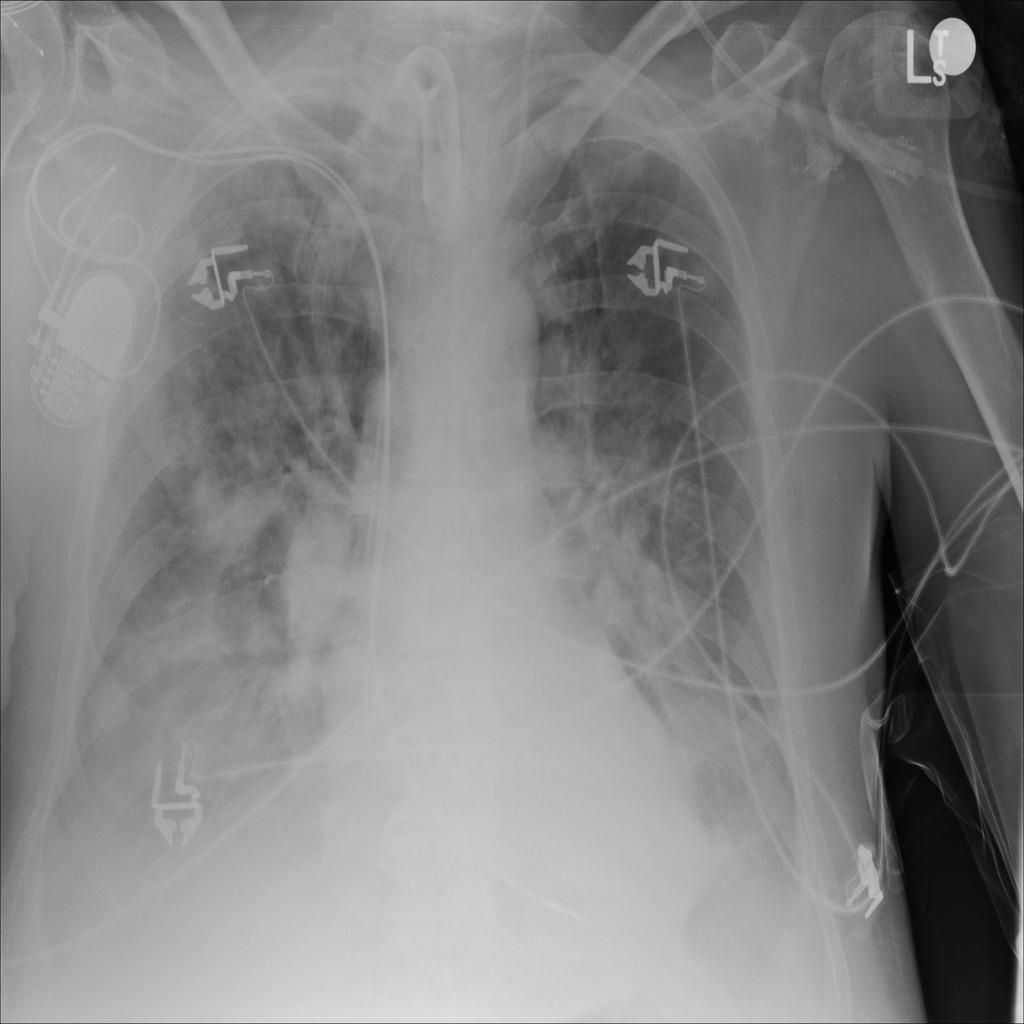nodule: (250, 471, 373, 644), (175, 442, 290, 577), (229, 597, 295, 674)
